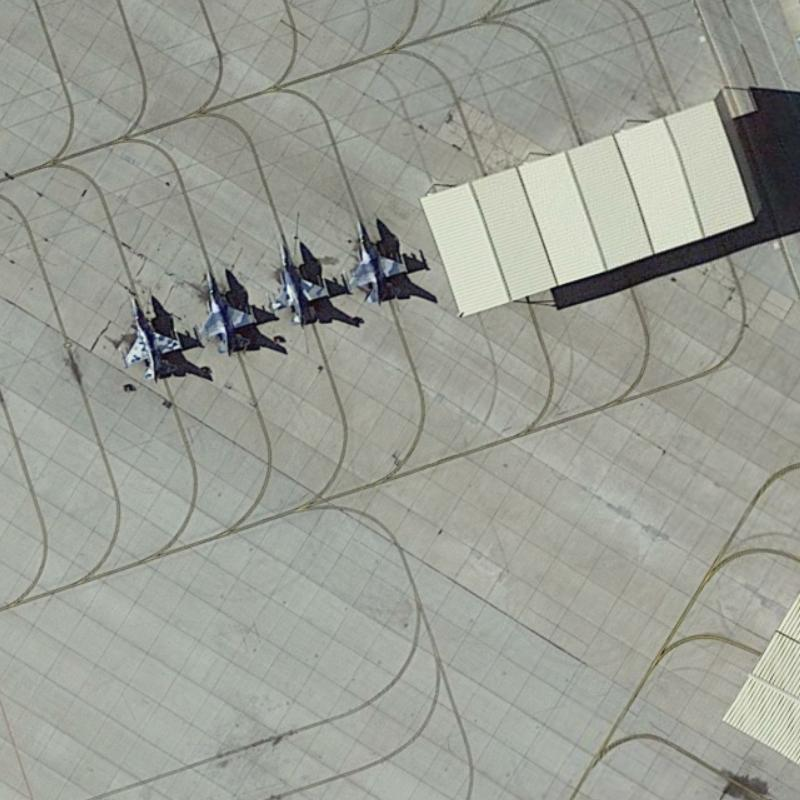A5: (260, 233, 342, 334), (188, 257, 265, 360), (109, 288, 191, 384), (338, 218, 419, 311)
